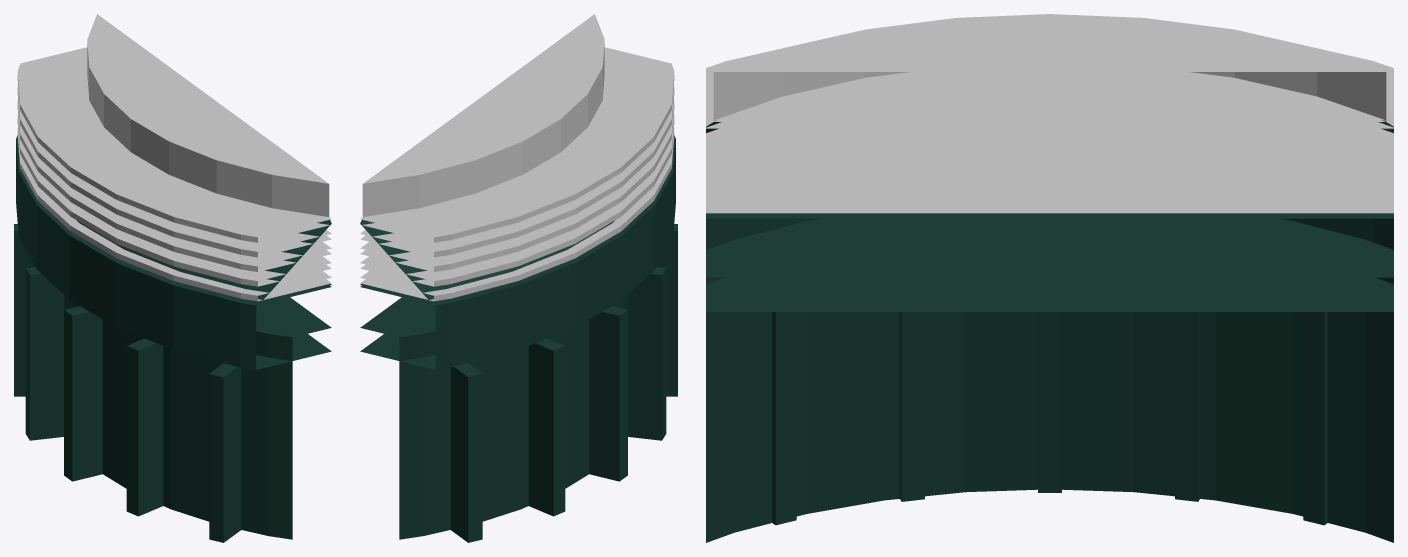
The model's file is cell_48.obj.
3 renders of one model, left to right at view 1: azimuth 30°, elevation 25°; view 2: azimuth 150°, elevation 25°; view 3: azimuth 270°, elevation 25°, orthographic. The views are drawn at different scales.
Size of the model in its own units: 0.3525 by 0.8 by 1.
